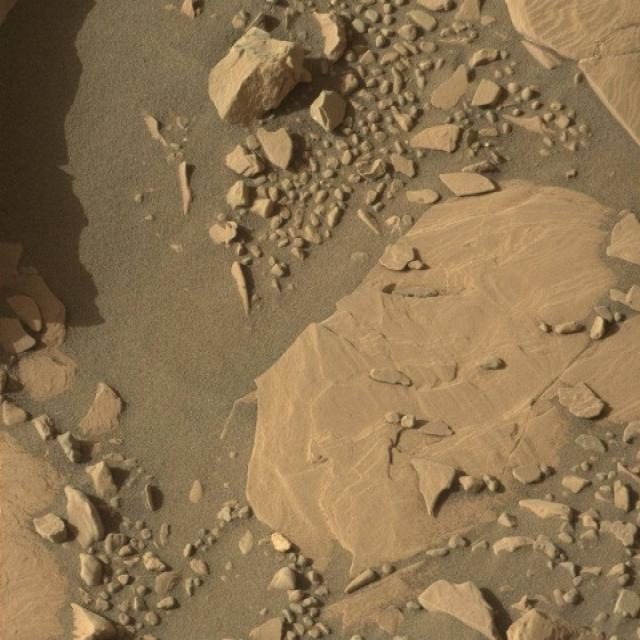mars-rocks: (208, 26, 304, 123), (419, 581, 497, 640), (290, 11, 348, 60), (412, 459, 457, 516), (64, 486, 103, 550), (256, 128, 293, 169), (310, 90, 347, 131), (410, 124, 462, 152), (225, 144, 265, 176)
